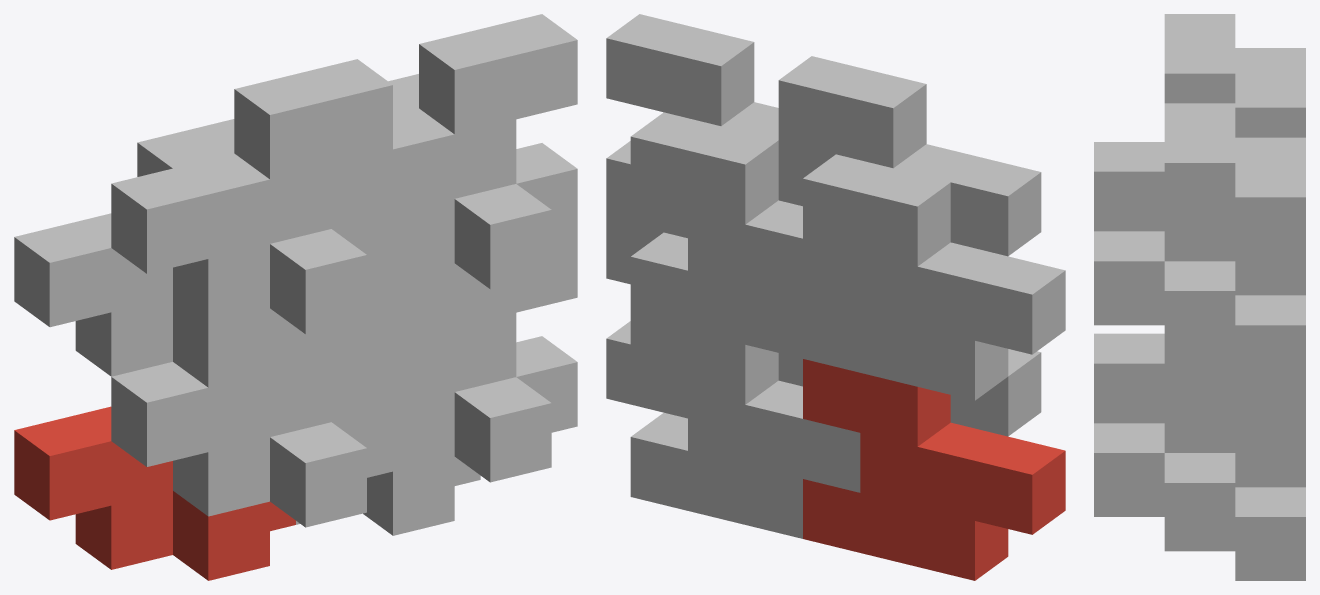
The model's file is tiling.obj.
The picture shows the model from 3 angles, left to right: view 1: azimuth 30°, elevation 25°; view 2: azimuth 150°, elevation 25°; view 3: azimuth 270°, elevation 25°; orthographic projection. The views are drawn at different scales.
Parts seen in each view (by area): view 1: copy_1_domain_4, copy_1_domain_8, copy_1_domain_2, copy_1_domain_6, copy_1_domain_3, copy_1_domain_1, copy_1_domain_5, copy_1_domain_7; view 2: copy_1_domain_3, copy_1_domain_1, copy_1_domain_7, copy_1_domain_5, copy_1_domain_4, copy_1_domain_8, copy_1_domain_6, copy_1_domain_2; view 3: copy_1_domain_8, copy_1_domain_6, copy_1_domain_7, copy_1_domain_5, copy_1_domain_4, copy_1_domain_2, copy_1_domain_3.
Part boxes in pixels (x1,y1,x2,y2): copy_1_domain_4: (111,59,392,334); copy_1_domain_8: (331,14,577,289); copy_1_domain_2: (111,278,392,527); copy_1_domain_6: (331,233,577,482); copy_1_domain_3: (14,119,269,387); copy_1_domain_1: (14,406,295,580); copy_1_domain_5: (296,456,480,535); copy_1_domain_7: (388,74,454,342); copy_1_domain_3: (803,154,1065,400); copy_1_domain_1: (803,359,1065,580); copy_1_domain_7: (630,112,860,358); copy_1_domain_5: (630,317,860,538); copy_1_domain_4: (778,56,1041,256); copy_1_domain_8: (606,14,835,238); copy_1_domain_6: (606,218,802,418); copy_1_domain_2: (950,349,1041,436); copy_1_domain_8: (1094,103,1235,354); copy_1_domain_6: (1094,355,1235,546); copy_1_domain_7: (1235,137,1305,388); copy_1_domain_5: (1164,389,1305,580); copy_1_domain_4: (1094,14,1235,231); copy_1_domain_2: (1094,333,1164,423); copy_1_domain_3: (1235,48,1305,137).
Size of the model in its own units: 8 by 7 by 3.
